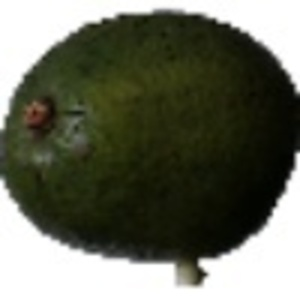abacate: (1, 13, 294, 260)
